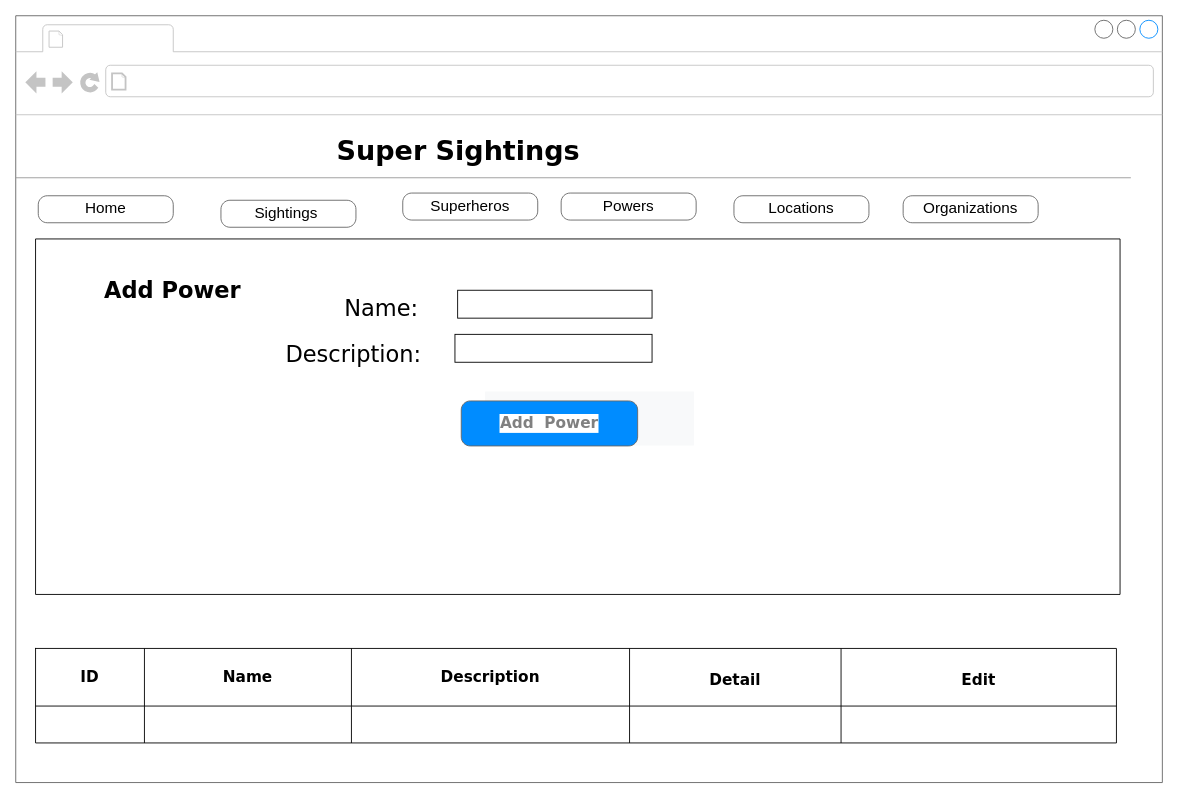
The diagram is 1178 pixels wide and 798 high, and some of its shapes have lost their labels. Here are the shapes that lost their labels. From the top down, the centre of each, then its label:
the point at 119,38: Page 11
the point at 282,81: https://localhost:8080/Powers
